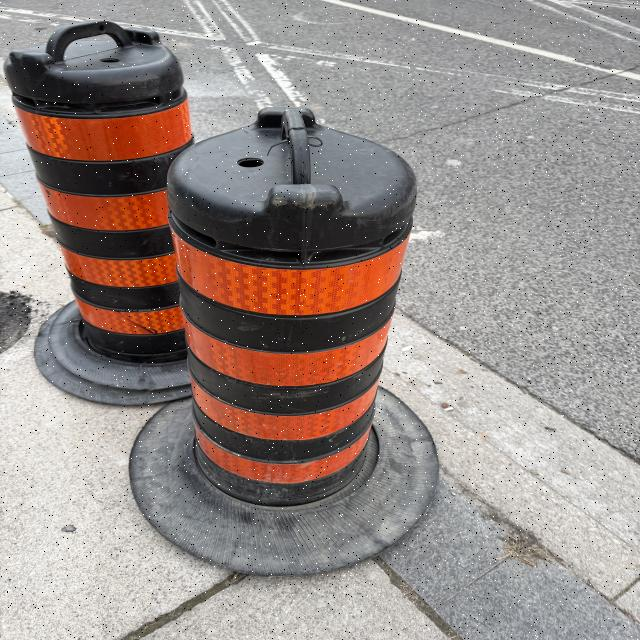Teraffic Barrel: (130, 108, 438, 575), (5, 21, 192, 404)
